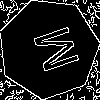M: (23, 24, 80, 78)
